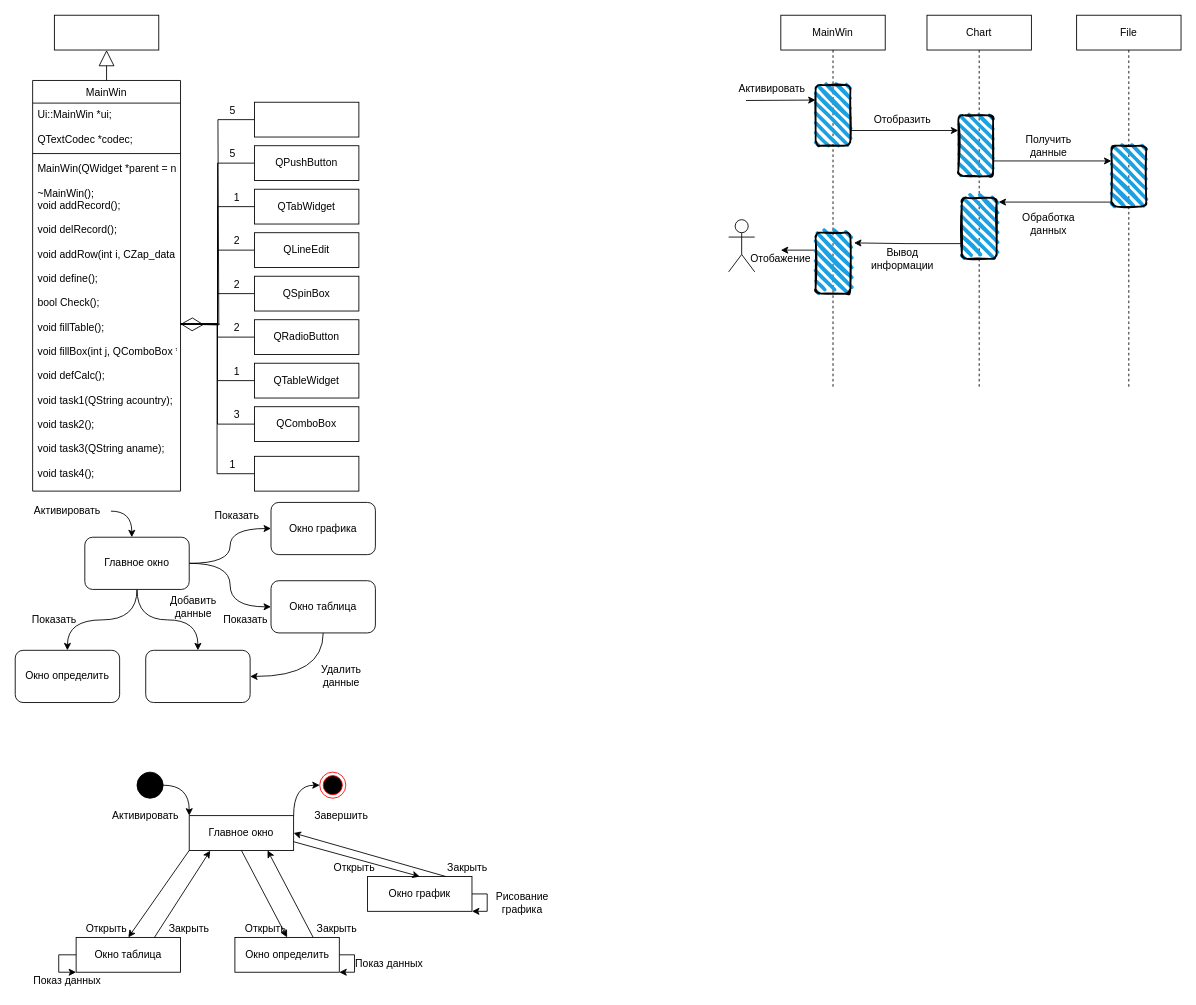
Some shapes in this 1196 by 1005 pixel diagram are drawn without their labels. The centre of each missing label's shape, as x and y in pixels:
Actor: point (741, 245)
QTextEdit: point (306, 473)
QWidget: point (106, 32)
QWidget (chart): point (306, 119)
Файл: point (197, 676)
